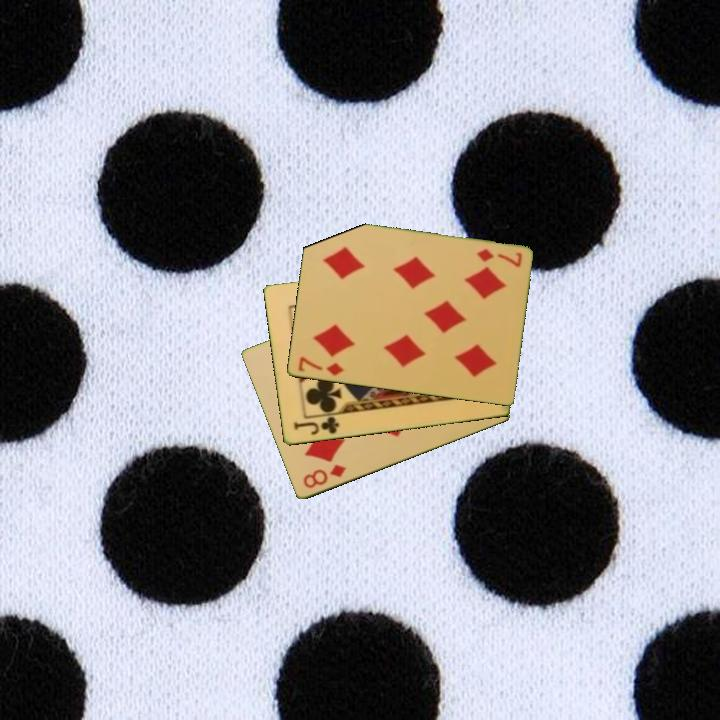7d: (294, 353, 346, 379), (473, 245, 525, 270)
8d: (299, 461, 349, 492)
Jc: (290, 413, 342, 438)
